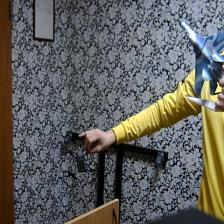drone: (56, 128, 102, 188)
